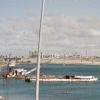Boat: (21, 69, 97, 87)
